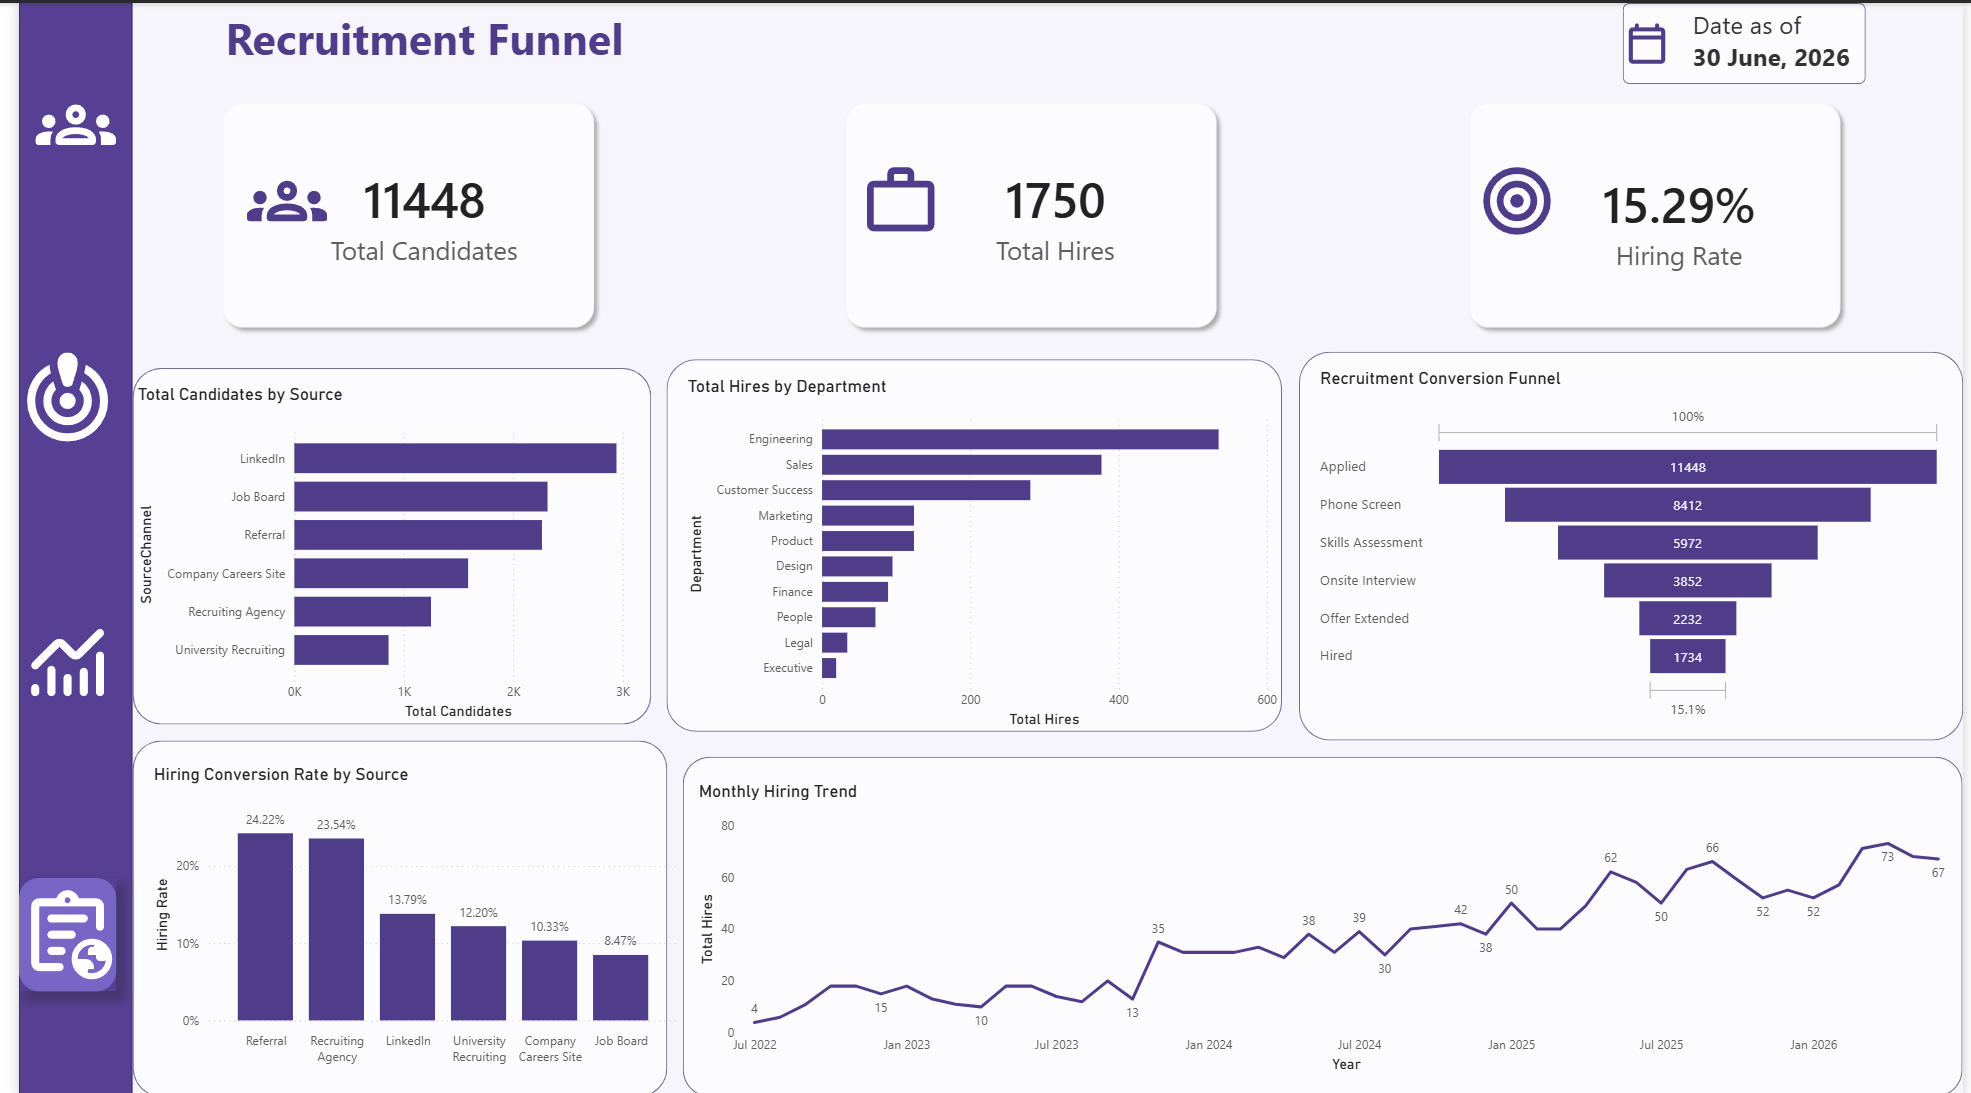

The page's visual inventory and layout, read from the dashboard file:
{"tool":"powerbi","page":{"name":"Recruitment Analytics","canvas":[1920,1080],"ordinal":3},"visuals":[{"type":"shape","box":[1584,0,240,80],"z":0,"group":"g2"},{"type":"shape","box":[112,728,528,352],"z":0},{"type":"image","box":[1568,16,80,48],"z":1000,"group":"g2"},{"type":"shape","box":[640,352,608,368],"z":1000,"group":"g7"},{"type":"shape","box":[656,744,1264,336],"z":1000},{"type":"textbox","box":[1648,0,176,80],"z":2000,"group":"g2"},{"type":"shape","box":[112,360,512,352],"z":2000,"group":"g6"},{"type":"clusteredColumnChart","title":"Hiring Conversion Rate by Source","fields":{"Category":["Recruitment.SourceChannel"],"Y":["Dax_Measure.Hiring Rate"]},"box":[128,752,528,304],"z":2000},{"type":"shape","box":[808,90.7,384,239],"z":3000,"group":"g4"},{"type":"shape","box":[1424,90.7,384,239],"z":3000,"group":"g5"},{"type":"lineChart","title":"Monthly Hiring Trend","fields":{"Category":["Recruitment.ApplicationDate.Variation.Date Hierarchy.Year","Recruitment.ApplicationDate.Variation.Date Hierarchy.Month"],"Y":["Dax_Measure.Total Hires"]},"box":[672,768,1248,288],"z":3000},{"type":"image","box":[16,72,80,112],"z":4000},{"type":"shape","box":[192,90.7,384,239],"z":4000,"group":"g3"},{"type":"shape","box":[1264,344,656,384],"z":4000,"group":"g8"},{"type":"image","box":[26,82,80,112],"z":5000},{"type":"clusteredBarChart","title":"Total Candidates by Source","fields":{"Category":["Recruitment.SourceChannel"],"Y":["Dax_Measure.Total Candidates"]},"box":[112,376,496,336],"z":5000,"group":"g6"},{"type":"textbox","box":[144,0,512,80],"z":6000},{"type":"group","id":"g1","title":"Group 2","box":[0,-8,112,1088],"z":7000},{"type":"funnel","title":"Recruitment Conversion Funnel","fields":{"Category":["StageOrder.Stage"],"Y":["Sum(StageOrder.CandidateCount)"]},"box":[1280,360,624,352],"z":7000,"group":"g8"},{"type":"group","id":"g2","title":"Group 1","box":[1568,0,256,80],"z":8000},{"type":"cardVisual","fields":{"Data":["Dax_Measure.Total Candidates"]},"box":[224,106.7,352,208],"z":8000,"group":"g3"},{"type":"clusteredBarChart","fields":{"Category":["Recruitment.Department"],"Y":["Dax_Measure.Total Hires"]},"box":[656,368,592,352],"z":8000,"group":"g7"},{"type":"shape","box":[0,-8,112,1088],"z":9000,"group":"g1"},{"type":"group","id":"g3","title":"Group 3","box":[192,90.7,384,239],"z":9000},{"type":"cardVisual","fields":{"Data":["DAX.Total Hires"]},"box":[856,106.7,336,208],"z":9000,"group":"g4"},{"type":"cardVisual","fields":{"Data":["DAX.Hiring Rate"]},"box":[1472,112,336,208],"z":9000,"group":"g5"},{"type":"group","id":"g4","title":"Group 4","box":[808,90.7,384,239],"z":10000},{"type":"image","box":[0,336,96,112],"z":10000,"group":"g1"},{"type":"group","id":"g5","title":"Group 4","box":[1424,90.7,384,239],"z":11000},{"type":"image","box":[0,592,96,112],"z":11000,"group":"g1"},{"type":"image","box":[16,64,80,112],"z":12000,"group":"g1"},{"type":"group","id":"g6","title":"Group 5","box":[112,360,512,352],"z":12000},{"type":"group","id":"g7","title":"Group 6","box":[640,352,608,368],"z":13000},{"type":"image","box":[0,864,96,112],"z":13000,"group":"g1"},{"type":"group","id":"g8","title":"Group 7","box":[1264,344,656,384],"z":14000},{"type":"image","box":[224,140.5,80,112],"z":18000,"group":"g3"},{"type":"image","box":[832,140.5,80,112],"z":22000,"group":"g4"},{"type":"image","box":[1440,140.5,80,112],"z":22000,"group":"g5"}]}

Visuals, with their boxes on the page's 1920x1080 design canvas (x1, y1, x2, y2). These are canvas units, not pixel positions in the 1971x1093 screenshot, which may show the page scaled, cropped or inside an application window:
shape: (1584,0,1824,80)
shape: (112,728,640,1080)
image: (1568,16,1648,64)
shape: (640,352,1248,720)
shape: (656,744,1920,1080)
textbox: (1648,0,1824,80)
shape: (112,360,624,712)
"Hiring Conversion Rate by Source" clusteredColumnChart: (128,752,656,1056)
shape: (808,91,1192,330)
shape: (1424,91,1808,330)
"Monthly Hiring Trend" lineChart: (672,768,1920,1056)
image: (16,72,96,184)
shape: (192,91,576,330)
shape: (1264,344,1920,728)
image: (26,82,106,194)
"Total Candidates by Source" clusteredBarChart: (112,376,608,712)
textbox: (144,0,656,80)
"Group 2" group: (0,-8,112,1080)
"Recruitment Conversion Funnel" funnel: (1280,360,1904,712)
"Group 1" group: (1568,0,1824,80)
cardVisual - Dax_Measure.Total Candidates: (224,107,576,315)
clusteredBarChart - Recruitment.Department x Dax_Measure.Total Hires: (656,368,1248,720)
shape: (0,-8,112,1080)
"Group 3" group: (192,91,576,330)
cardVisual - DAX.Total Hires: (856,107,1192,315)
cardVisual - DAX.Hiring Rate: (1472,112,1808,320)
"Group 4" group: (808,91,1192,330)
image: (0,336,96,448)
"Group 4" group: (1424,91,1808,330)
image: (0,592,96,704)
image: (16,64,96,176)
"Group 5" group: (112,360,624,712)
"Group 6" group: (640,352,1248,720)
image: (0,864,96,976)
"Group 7" group: (1264,344,1920,728)
image: (224,140,304,252)
image: (832,140,912,252)
image: (1440,140,1520,252)
